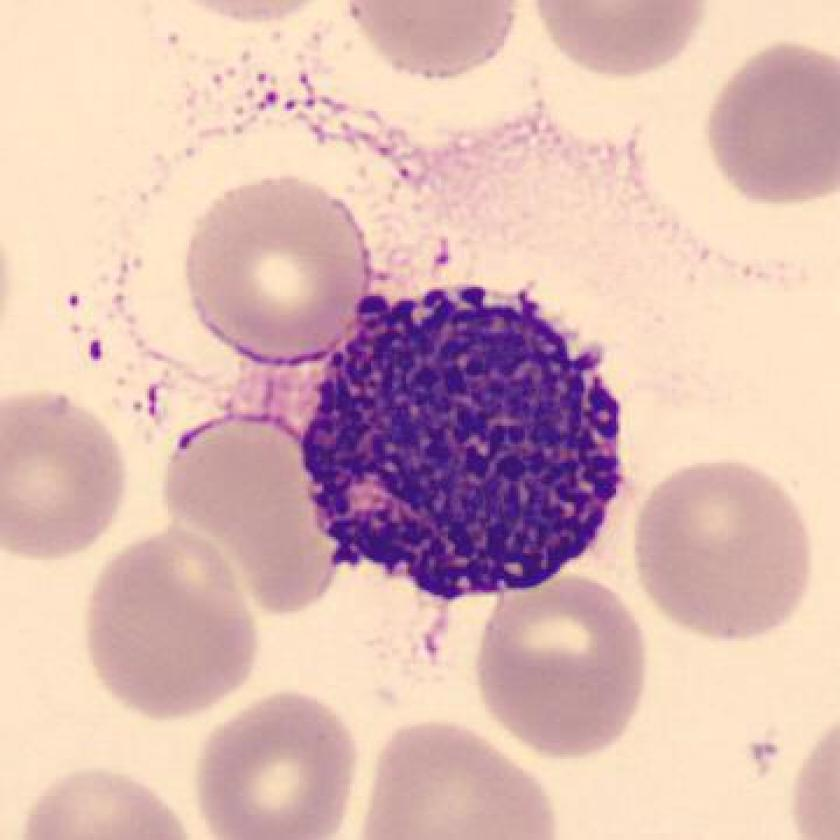basophil: (300, 279, 640, 605)
